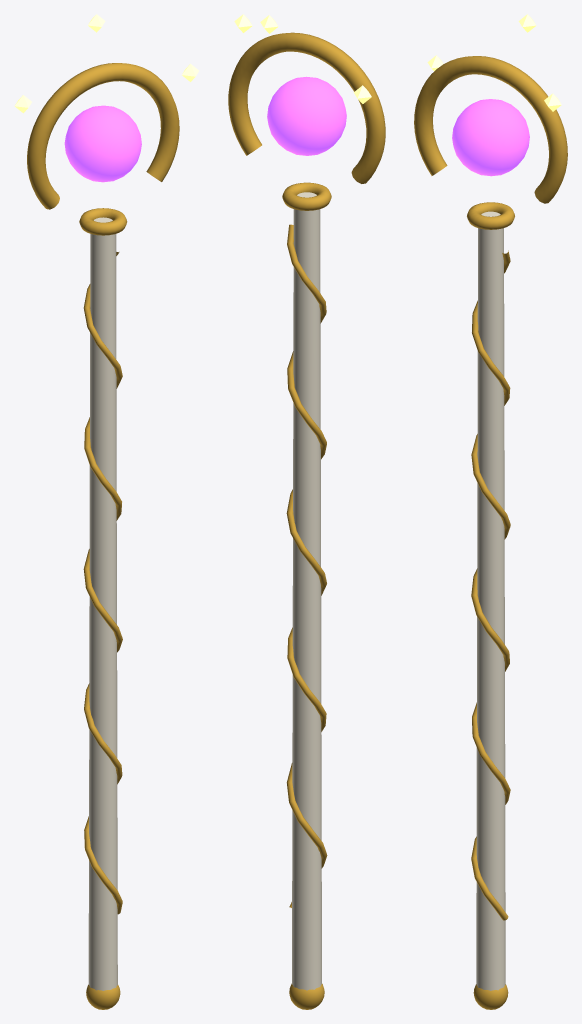
File: staff_archmage.glb
3 renders of one model, left to right at view 1: azimuth 30°, elevation 25°; view 2: azimuth 150°, elevation 25°; view 3: azimuth 330°, elevation 25°, orthographic. The views are drawn at different scales.
Visible parts, largest first — view 1: shaft, helix, glow_orb, glow_star; view 2: shaft, helix, glow_orb, glow_star; view 3: shaft, helix, glow_orb, glow_star.
Boxes of the visible parts, x1,y1,x2,y2 form: shaft: [88, 217, 117, 990]; helix: [27, 63, 179, 1009]; glow_orb: [64, 105, 141, 182]; glow_star: [14, 14, 199, 113]; shaft: [292, 192, 321, 990]; helix: [228, 32, 385, 1009]; glow_orb: [267, 76, 346, 155]; glow_star: [234, 14, 371, 103]; shaft: [476, 211, 505, 990]; helix: [414, 56, 567, 1009]; glow_orb: [452, 99, 529, 176]; glow_star: [427, 14, 561, 111].
Size of the model in its own units: 0.214 by 1.25 by 0.107.
